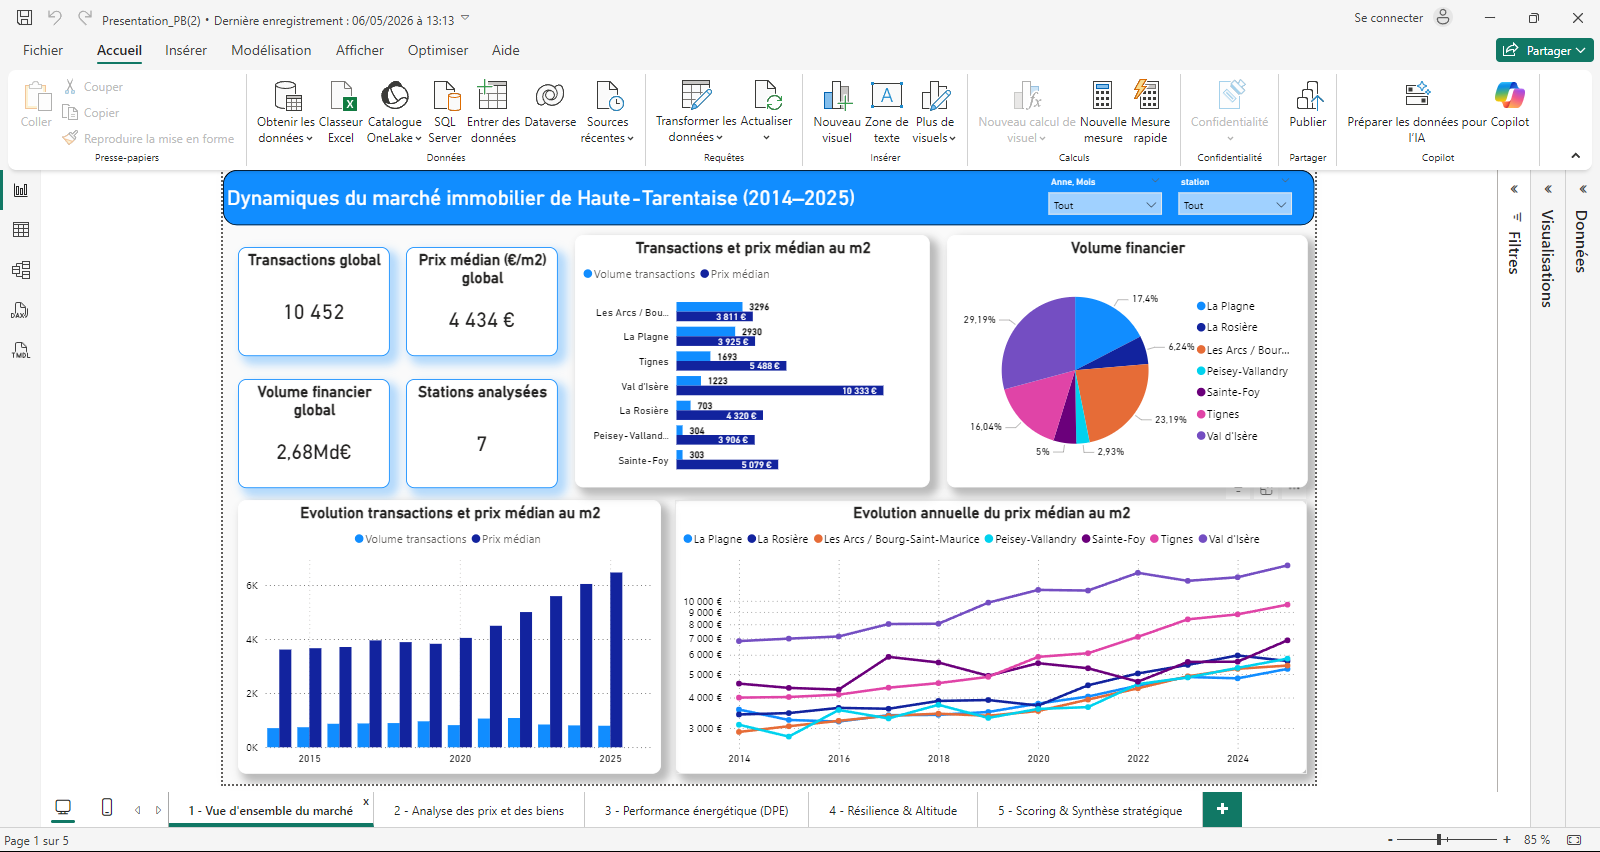

The page's visual inventory and layout, read from the dashboard file:
{"tool":"powerbi","page":{"name":"1 - Vue d'ensemble du marché","canvas":[1280,720],"ordinal":0},"visuals":[{"type":"shape","box":[0,0,1280,65],"z":0},{"type":"cardVisual","title":"Transactions global","fields":{"Data":["dvf_clean.Volume transactions"]},"box":[17.5,90,177.5,127.5],"z":1000},{"type":"cardVisual","title":"Prix médian (€/m2) global","fields":{"Data":["dvf_clean.Prix médian"]},"box":[215,90,177.5,127.5],"z":2000},{"type":"cardVisual","title":"Volume financier global ","fields":{"Data":["dvf_clean.Volume financier"]},"box":[17.5,245,177.5,127.5],"z":3000},{"type":"cardVisual","title":"Stations analysées","fields":{"Data":["Count(Stations.station)"]},"box":[215,245,177.5,127.5],"z":4000},{"type":"lineChart","title":"Evolution annuelle du prix médian au m2","fields":{"Category":["Calendrier.Anne Hiérarchie.Anne"],"Y":["dvf_clean.Prix médian"],"Series":["Stations.station"]},"box":[530,387.5,741.2,321.2],"z":5000},{"type":"pieChart","title":"Volume financier","fields":{"Y":["dvf_clean.Volume financier"],"Series":["Stations.station"]},"box":[848.8,76.2,422.5,296.2],"z":6000},{"type":"slicer","title":"Station","fields":{"Values":["Stations.station"]},"box":[1110,2.5,152.5,56.2],"z":7000},{"type":"slicer","title":"Station","fields":{"Values":["Calendrier.Anne Hiérarchie.Anne","Calendrier.Anne Hiérarchie.Mois"]},"box":[957.5,2.5,152.5,56.2],"z":8000},{"type":"clusteredColumnChart","title":"Evolution transactions et prix médian au m2","fields":{"Category":["dvf_clean.annee"],"Y":["dvf_clean.Volume transactions","dvf_clean.Prix médian"]},"box":[17.5,387.5,496.2,321.2],"z":9000},{"type":"clusteredBarChart","title":"Transactions et prix médian au m2","fields":{"Category":["Stations.station"],"Y":["dvf_clean.Volume transactions","dvf_clean.Prix médian"]},"box":[412.5,76.2,416.2,296.2],"z":10000}]}

Visuals, with their boxes on the page's 1280x720 design canvas (x1, y1, x2, y2). These are canvas units, not pixel positions in the 1600x852 screenshot, which may show the page scaled, cropped or inside an application window:
shape: [x1=0, y1=0, x2=1280, y2=65]
"Transactions global" cardVisual: [x1=18, y1=90, x2=195, y2=218]
"Prix médian (€/m2) global" cardVisual: [x1=215, y1=90, x2=392, y2=218]
"Volume financier global " cardVisual: [x1=18, y1=245, x2=195, y2=372]
"Stations analysées" cardVisual: [x1=215, y1=245, x2=392, y2=372]
"Evolution annuelle du prix médian au m2" lineChart: [x1=530, y1=388, x2=1271, y2=709]
"Volume financier" pieChart: [x1=849, y1=76, x2=1271, y2=372]
"Station" slicer: [x1=1110, y1=2, x2=1262, y2=59]
"Station" slicer: [x1=958, y1=2, x2=1110, y2=59]
"Evolution transactions et prix médian au m2" clusteredColumnChart: [x1=18, y1=388, x2=514, y2=709]
"Transactions et prix médian au m2" clusteredBarChart: [x1=412, y1=76, x2=829, y2=372]
